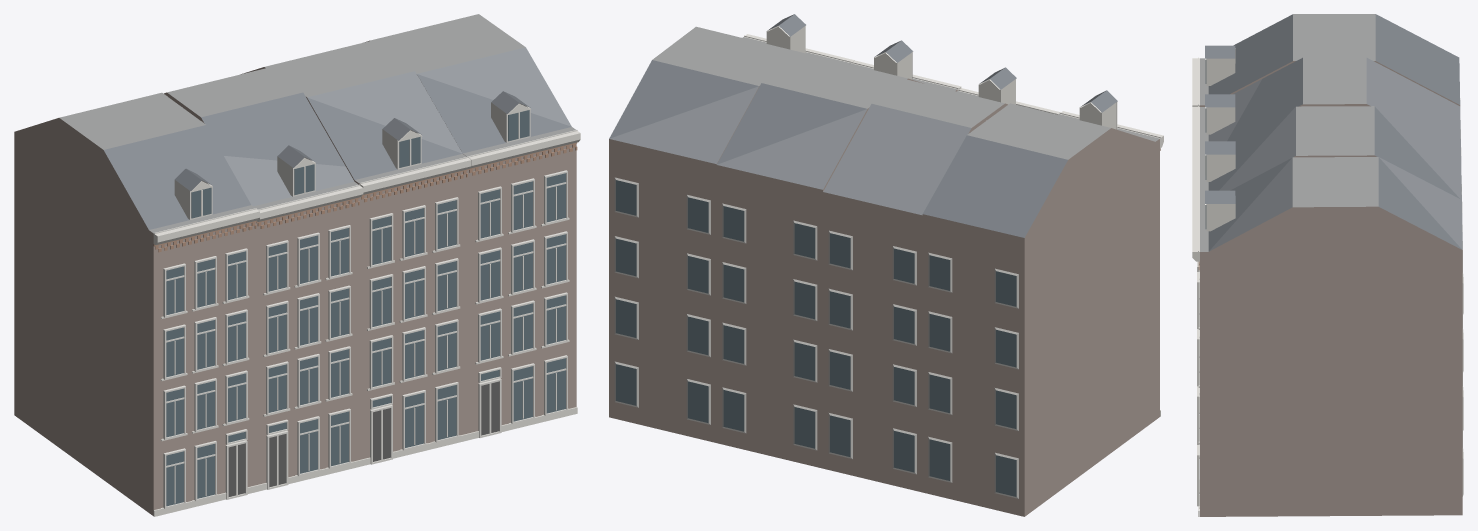
The model's file is chunk-face-florisz-12-38-r1.glb.
3 renders of one model, left to right at view 1: azimuth 30°, elevation 25°; view 2: azimuth 150°, elevation 25°; view 3: azimuth 270°, elevation 25°, orthographic. The views are drawn at different scales.
Parts seen in each view (by area): view 1: face-florisz-12-38-r1; view 2: face-florisz-12-38-r1; view 3: face-florisz-12-38-r1.
Boxes of the visible parts, <box> form: face-florisz-12-38-r1: <box>14,14,580,516</box>; face-florisz-12-38-r1: <box>609,14,1163,516</box>; face-florisz-12-38-r1: <box>1192,14,1463,516</box>.
Bounding box in the file's own units: 21.29 × 16.01 × 12.59.
